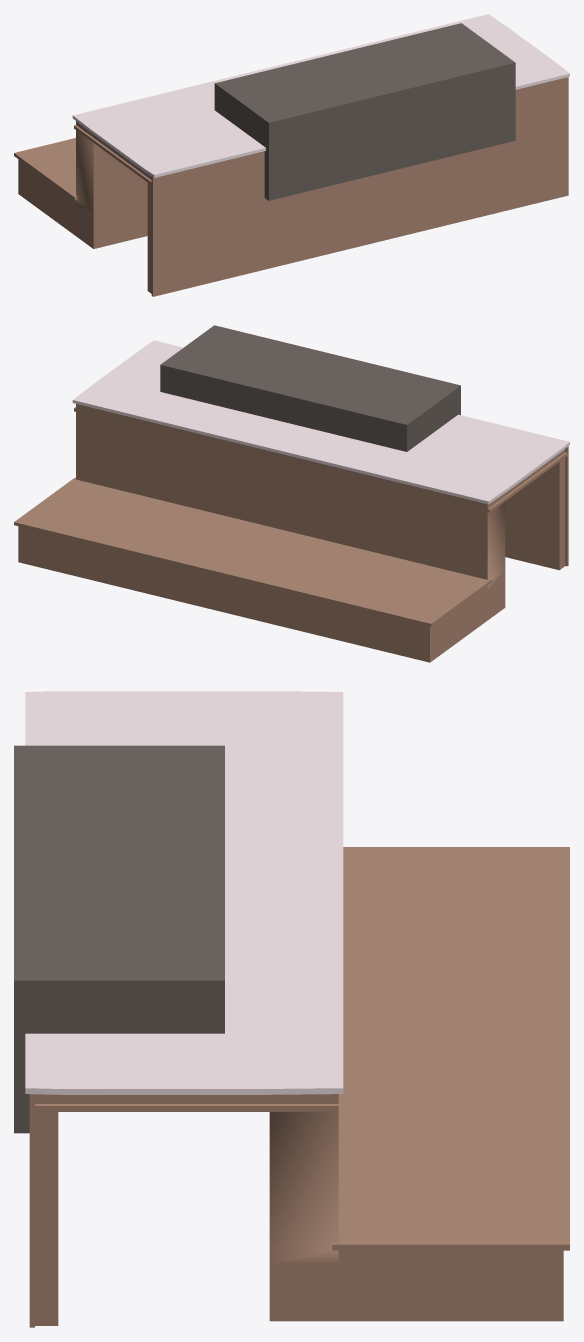
File: SM_counter_part_03.fbx
3 views of the same model, one above another, from view 1: azimuth 30°, elevation 25°; view 2: azimuth 150°, elevation 25°; view 3: azimuth 270°, elevation 25° (orthographic). The views are drawn at different scales.
Visible parts, largest first — view 1: counter_part_03; view 2: counter_part_03; view 3: counter_part_03.
Boxes of the visible parts, left/top/right/bottom form: counter_part_03: left=14, top=14, right=569, bottom=296; counter_part_03: left=14, top=325, right=569, bottom=662; counter_part_03: left=14, top=691, right=569, bottom=1327.
Bounding box in the file's own units: 336 × 115 × 199.
